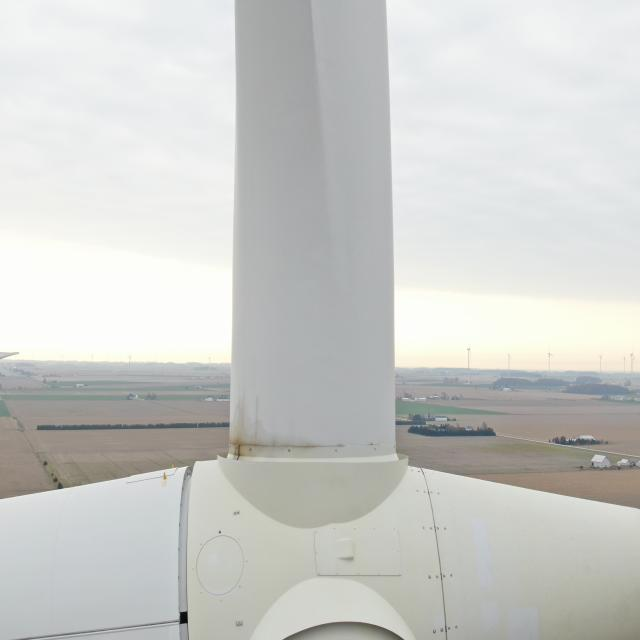damage: (220, 388, 295, 470)
